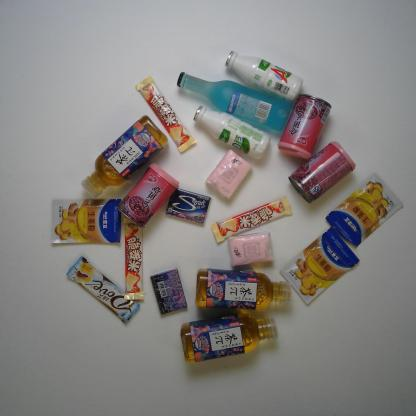Alcohol: (176, 71, 293, 132)
Canned Food: (288, 141, 356, 204), (116, 162, 179, 228), (277, 93, 332, 162)
Chocolate: (65, 254, 141, 324), (135, 74, 197, 154), (211, 195, 293, 243), (122, 216, 145, 300)
Drink: (80, 115, 168, 199), (179, 313, 279, 365), (194, 267, 292, 312)
Gum: (150, 267, 188, 316), (164, 188, 210, 226)
Milk: (193, 105, 272, 160), (224, 50, 304, 101)
Seasoner: (278, 226, 360, 306), (324, 171, 404, 248), (50, 198, 121, 244)
Tissue: (206, 150, 253, 200), (227, 231, 274, 268)
